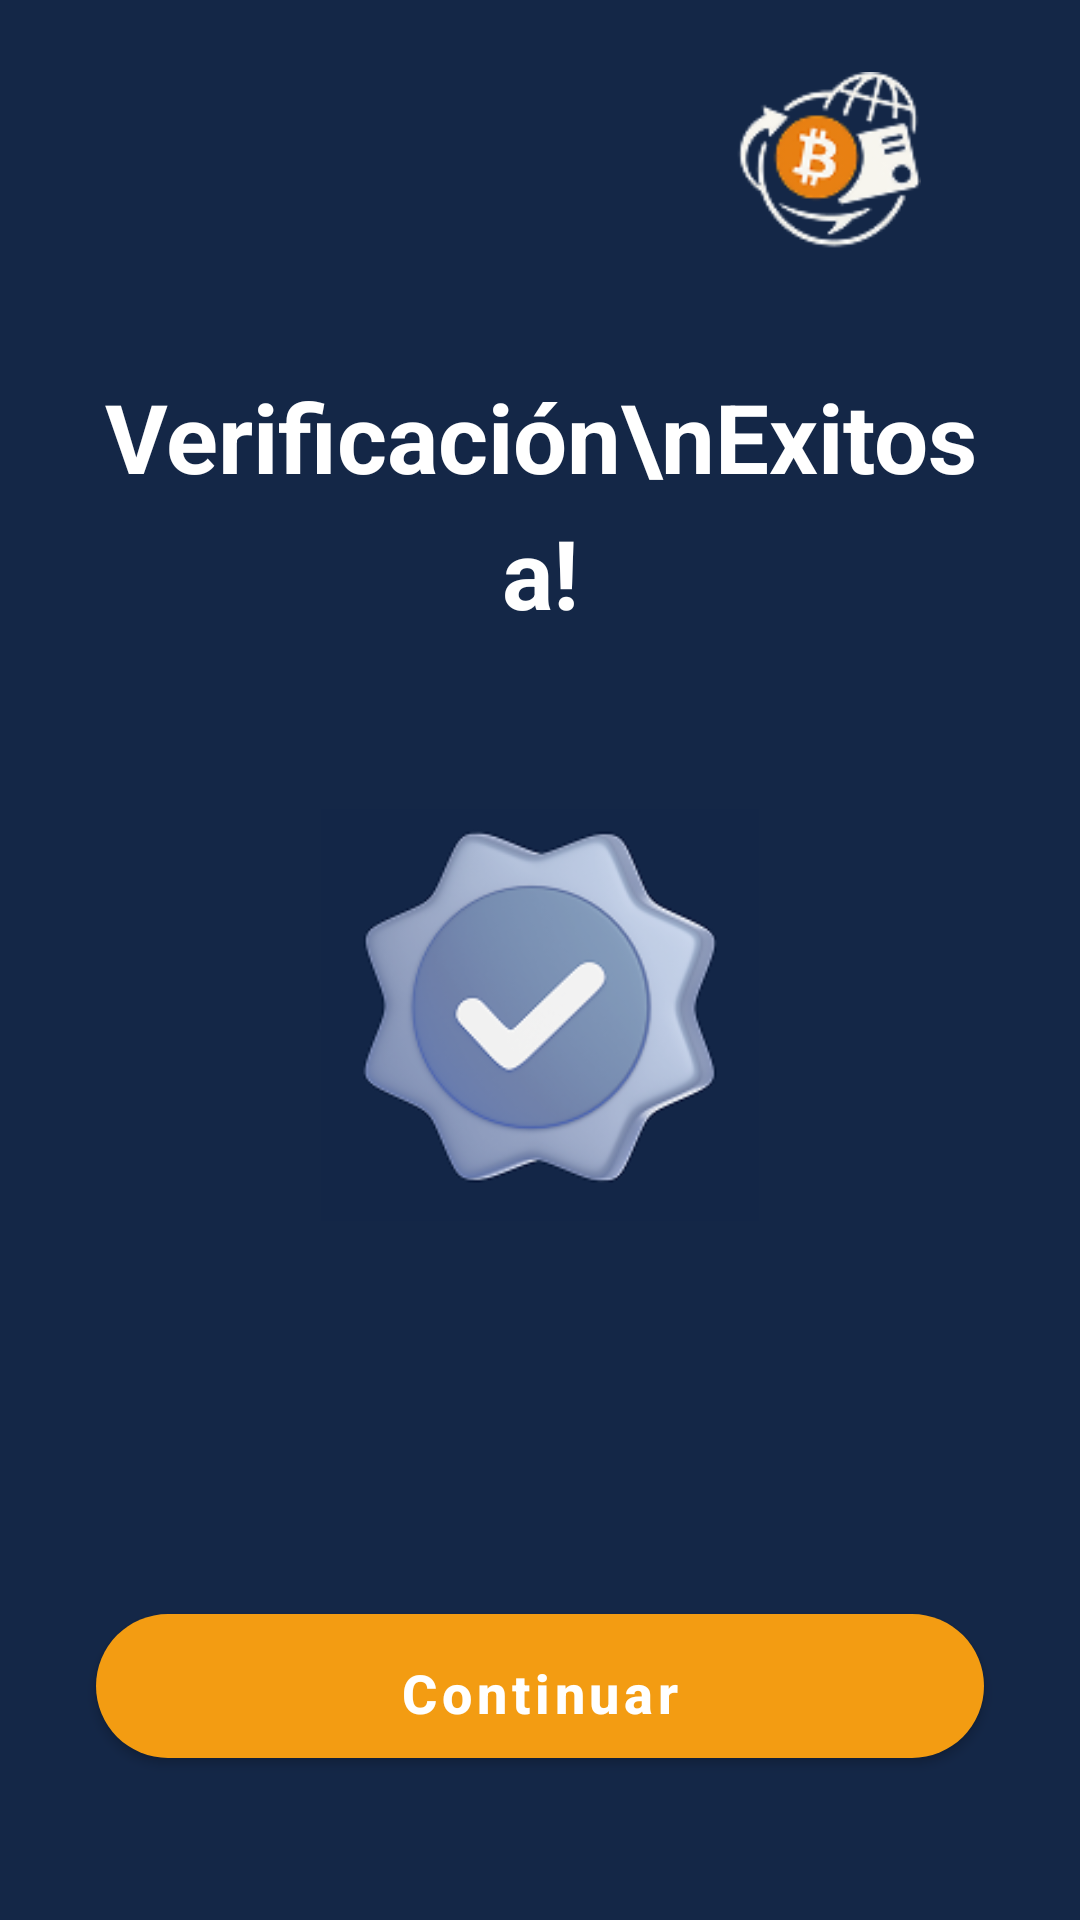

Point at icon controls on the screen. Image size 1080 × 1920, points as (x=x, y=y).
exito onboarding: (x=539, y=1007)
